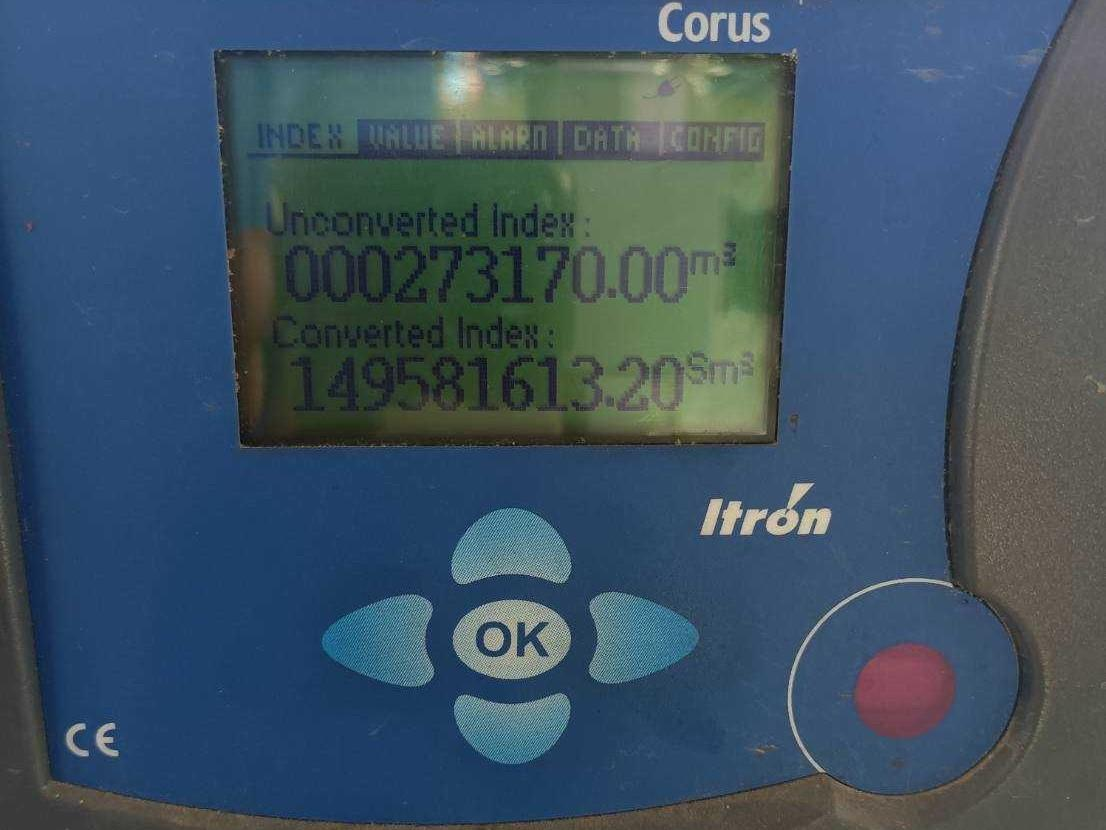digital_screen: (216, 47, 797, 447)
